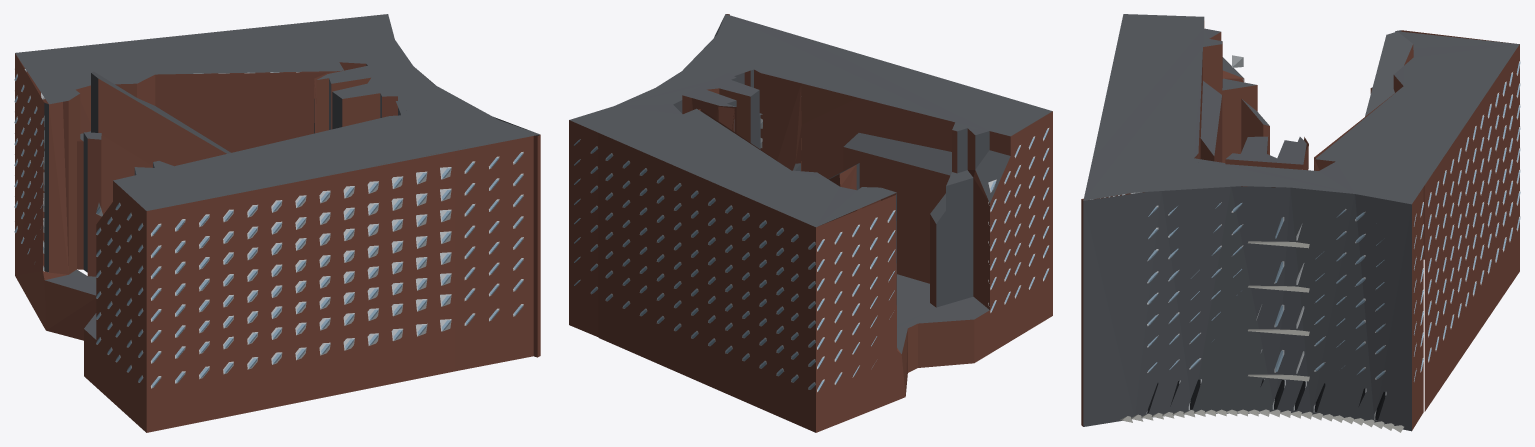
Rendered from woongebouw-wladiwostok.lod1.glb.
3 views of the same model, side by side, from view 1: azimuth 30°, elevation 25°; view 2: azimuth 150°, elevation 25°; view 3: azimuth 270°, elevation 25° (orthographic). The views are drawn at different scales.
Parts seen in each view (by area): view 1: woongebouw-wladiwostok; view 2: woongebouw-wladiwostok; view 3: woongebouw-wladiwostok.
Part boxes in pixels (x1,y1,x2,y2): woongebouw-wladiwostok: (14,14,540,432); woongebouw-wladiwostok: (569,14,1052,432); woongebouw-wladiwostok: (1081,14,1520,432).
Bounding box in the file's own units: 50.24 × 30.19 × 48.42.
